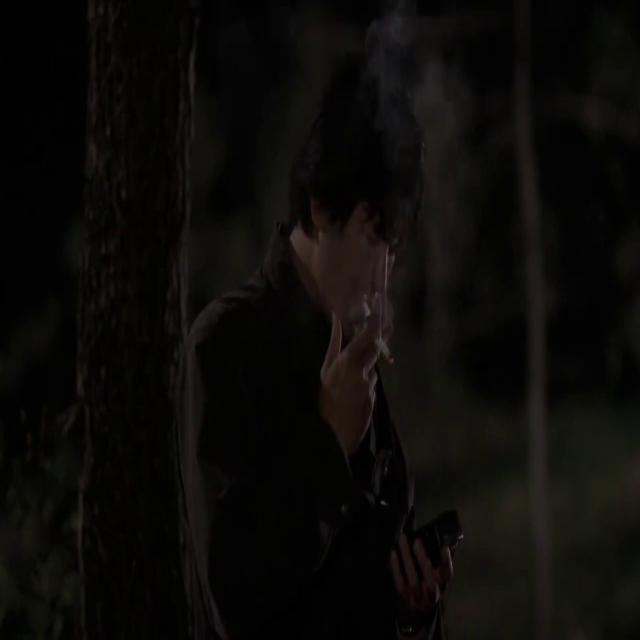Smooking: (373, 322, 400, 373)
